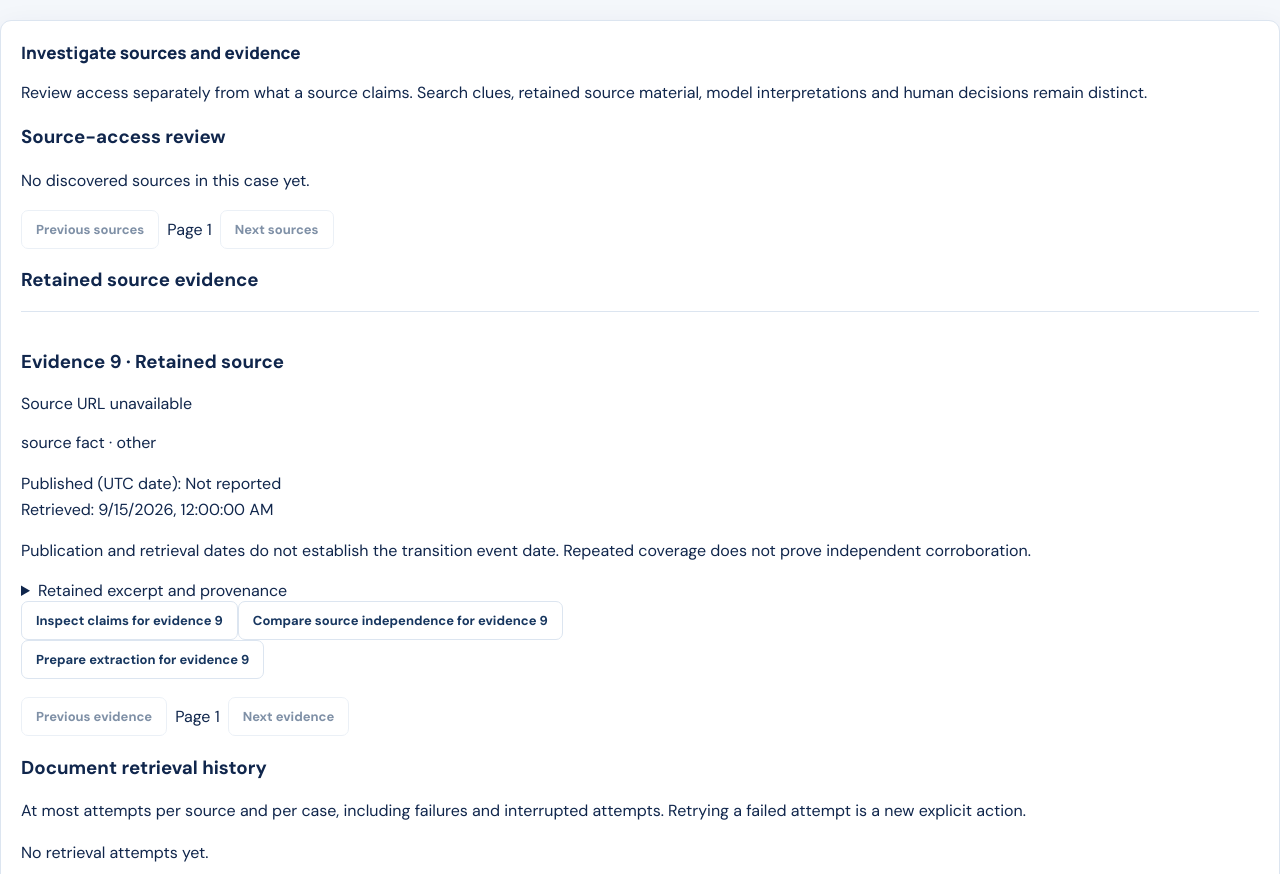
Test: renders retained text as text and keeps executive claims separate from ownership
Expected: the heading "Evidence 9 · Retained source" is shown, [21,349,284,374]
Expected: the text "Source URL unavailable" is shown, [21,392,192,414]
What coordinates should you click on to do the following:
click the heading "Retained excerpt and provenance"
I would click on:
 (163, 590)
Its box is [38,580,287,601].
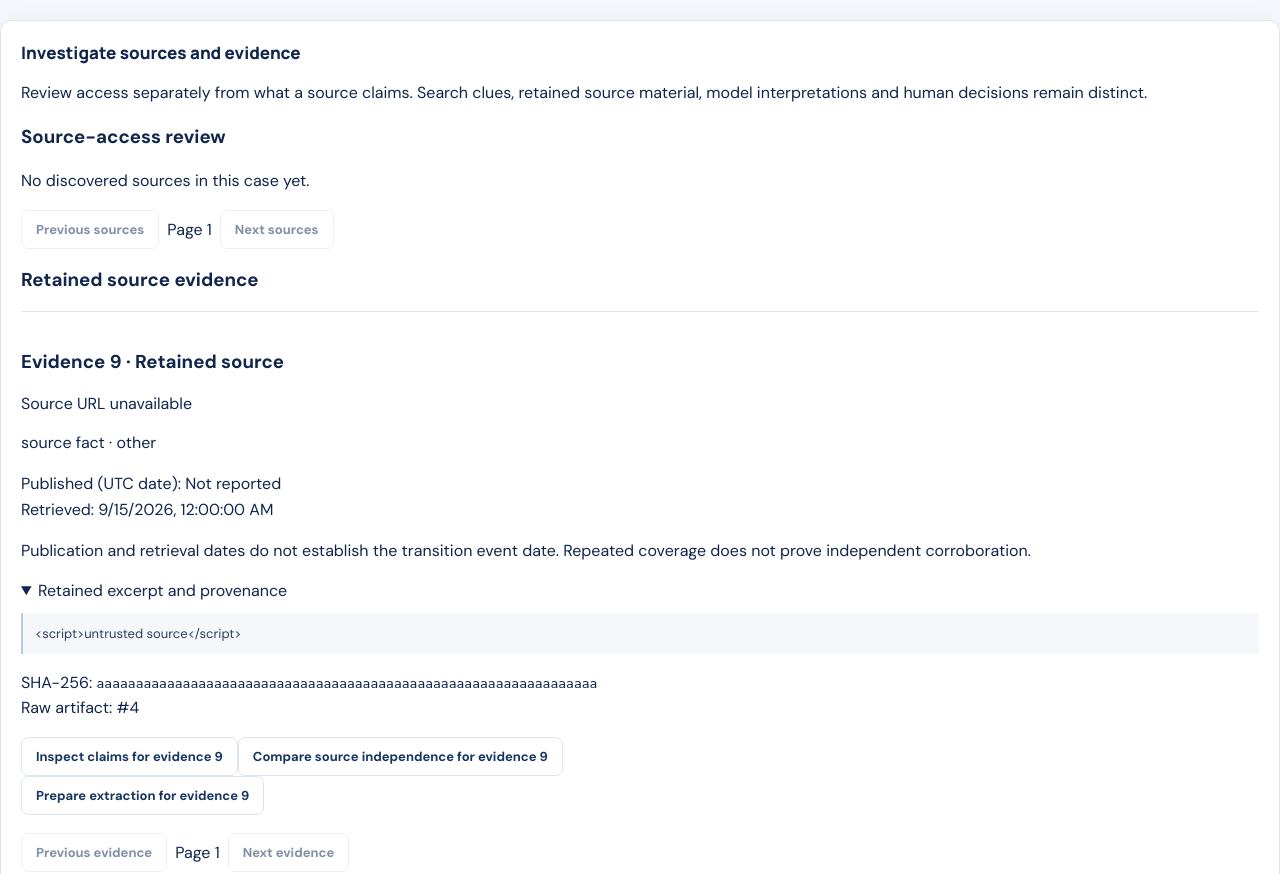
Expected: the text "<script>untrusted source</script>" is shown, [21,613,1259,654]
What coordinates should you click on to do the following:
click the button "Inspect claims for evidence 9"
I would click on:
 (129, 757)
Its box is [21,737,238,776].
(page scrolled)
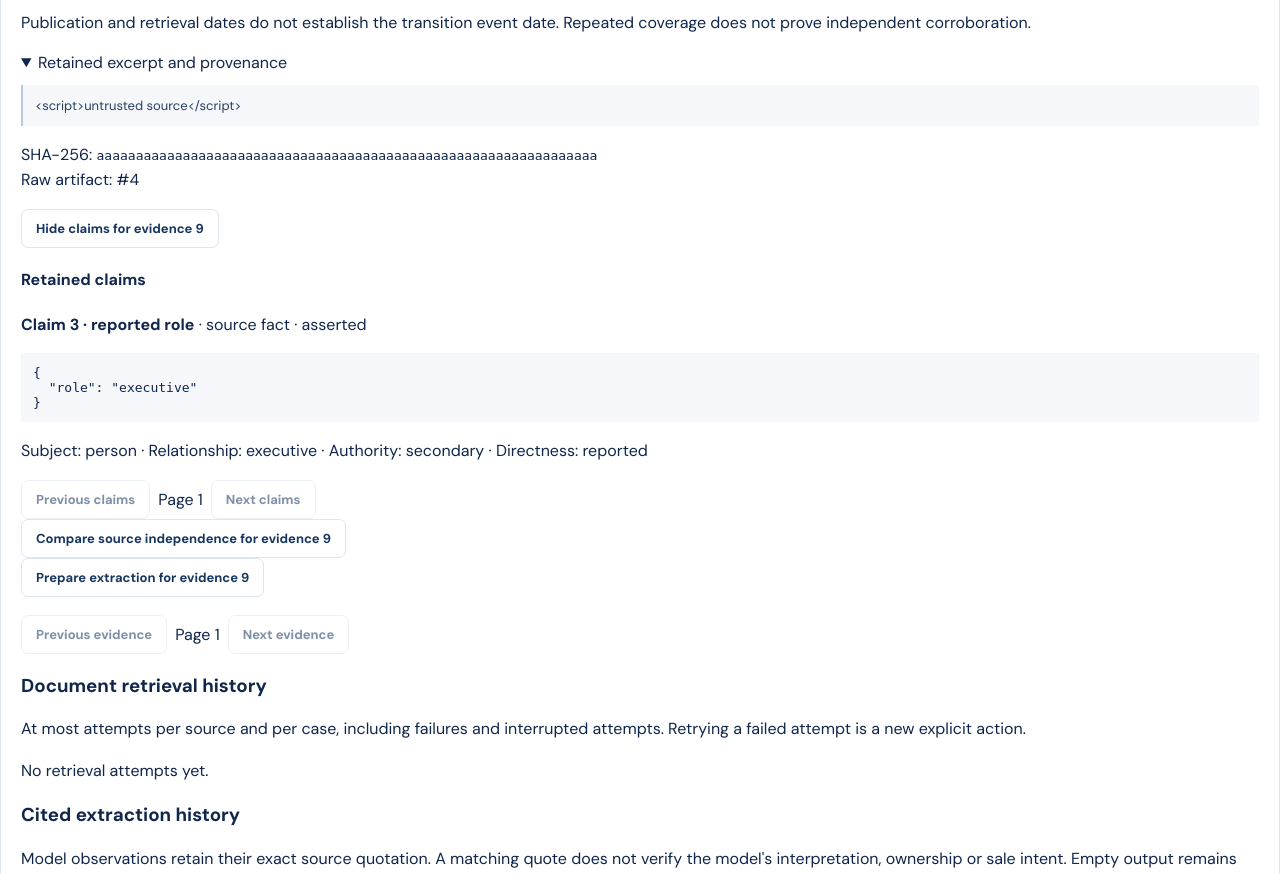
Expected: the text "Relationship: executive" is shown, [21,440,648,461]
